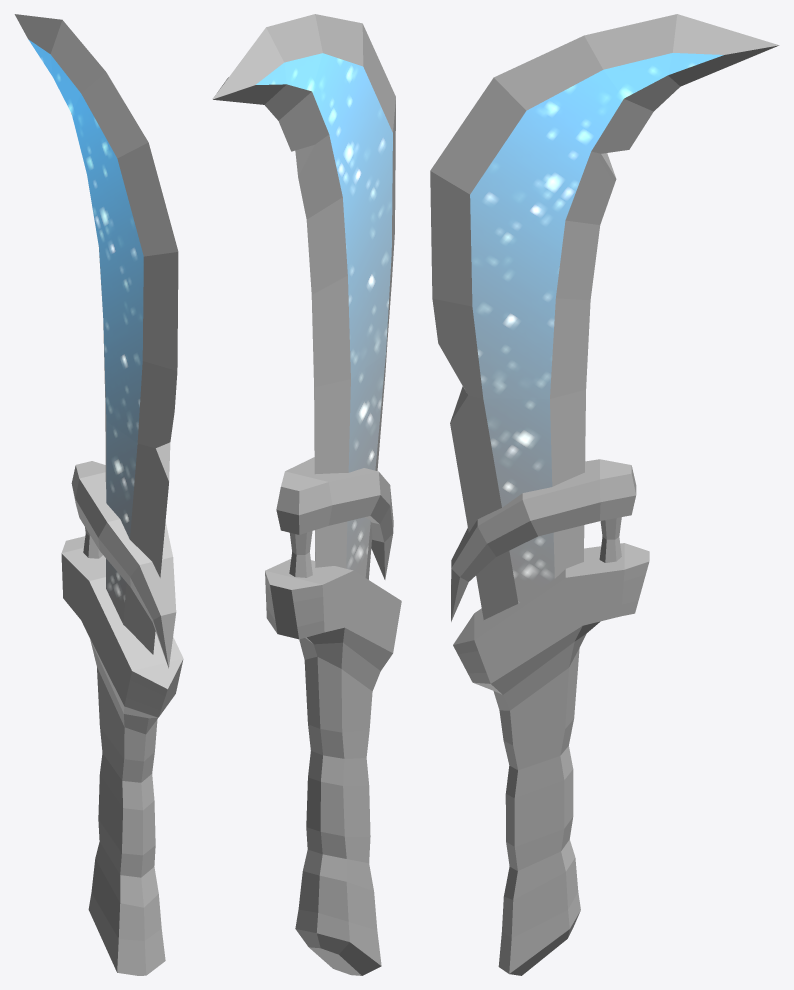
File: SM_Wep_Dagger_05.fbx
3 renders of one model, left to right at view 1: azimuth 30°, elevation 25°; view 2: azimuth 150°, elevation 25°; view 3: azimuth 270°, elevation 25°, orthographic. The views are drawn at different scales.
Parts seen in each view (by area): view 1: SM_Wep_Dagger_05; view 2: SM_Wep_Dagger_05; view 3: SM_Wep_Dagger_05.
Boxes of the visible parts, <box> form: SM_Wep_Dagger_05: <box>14,14,183,975</box>; SM_Wep_Dagger_05: <box>212,14,401,975</box>; SM_Wep_Dagger_05: <box>430,14,779,975</box>.
Size of the model in its own units: 5.58 by 72.43 by 23.91.
